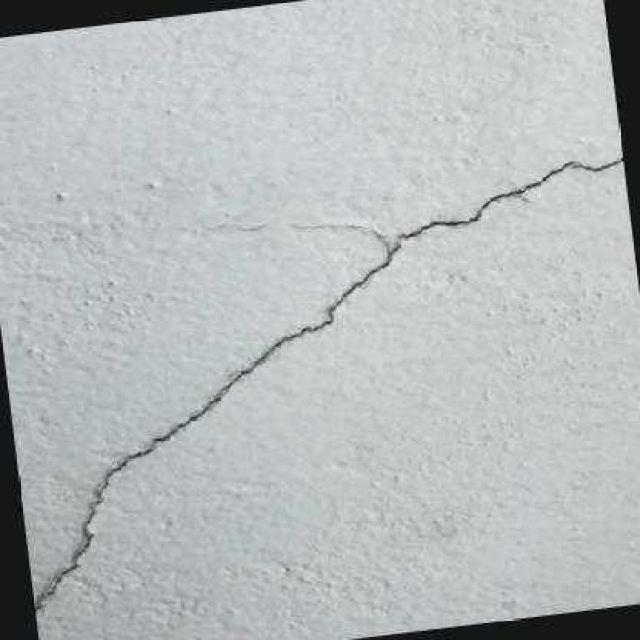D00: (32, 150, 623, 635)
